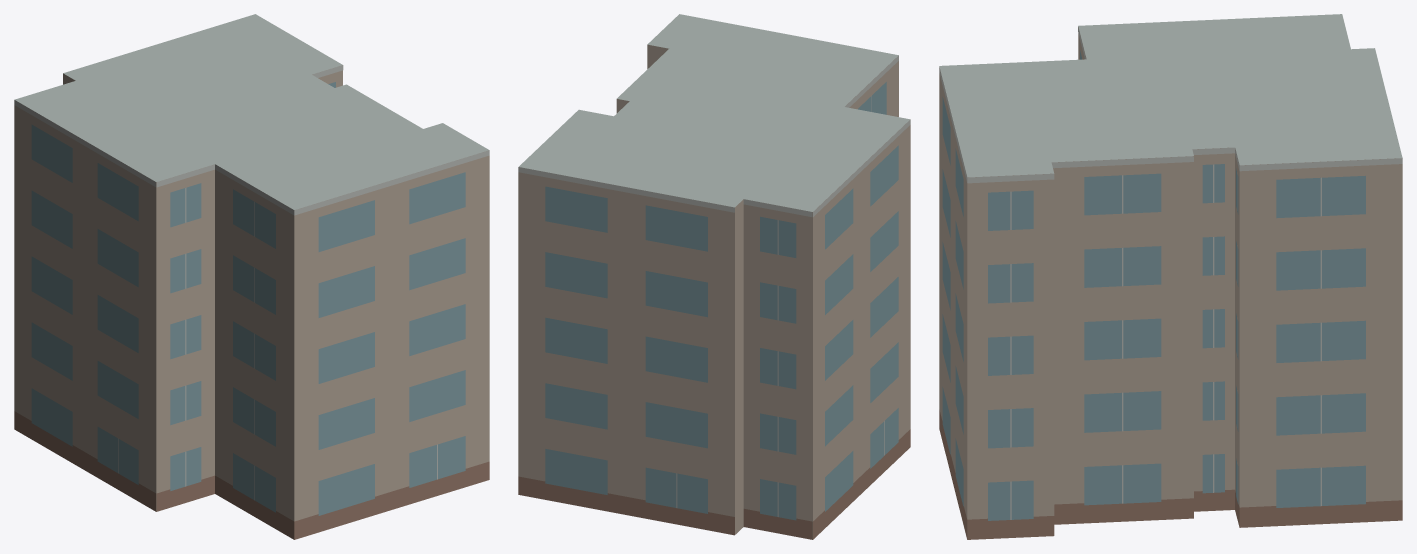
The model's file is survey-upis-32627927.glb.
3 renders of one model, left to right at view 1: azimuth 30°, elevation 25°; view 2: azimuth 150°, elevation 25°; view 3: azimuth 270°, elevation 25°, orthographic. The views are drawn at different scales.
Parts seen in each view (by area): view 1: survey-upis-32627927.tmp; view 2: survey-upis-32627927.tmp; view 3: survey-upis-32627927.tmp.
Boxes of the visible parts, bbox=[...] form: survey-upis-32627927.tmp: bbox=[14, 14, 489, 539]; survey-upis-32627927.tmp: bbox=[518, 14, 910, 539]; survey-upis-32627927.tmp: bbox=[939, 14, 1402, 539].
Bounding box in the file's own units: 14.52 × 15 × 17.39.
